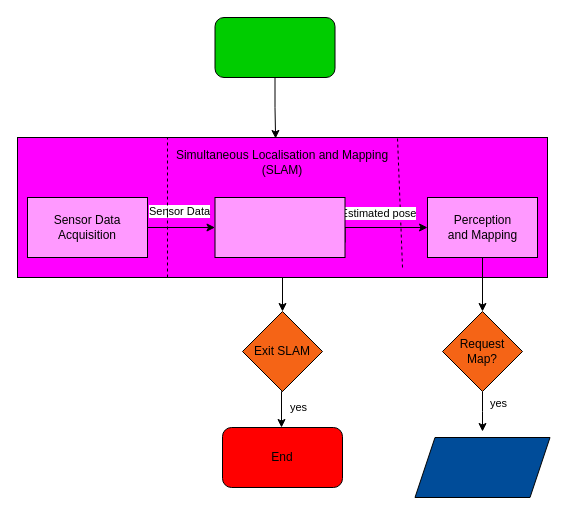
The diagram is 568 pixels wide and 515 high, and some of its shapes have lost their labels. The box of each missing label's shape, as (x1, y1, x2, y2) in pixels:
Localisation: (214, 196, 345, 258)
Output map file: (414, 436, 550, 498)
Start: (214, 16, 335, 78)
